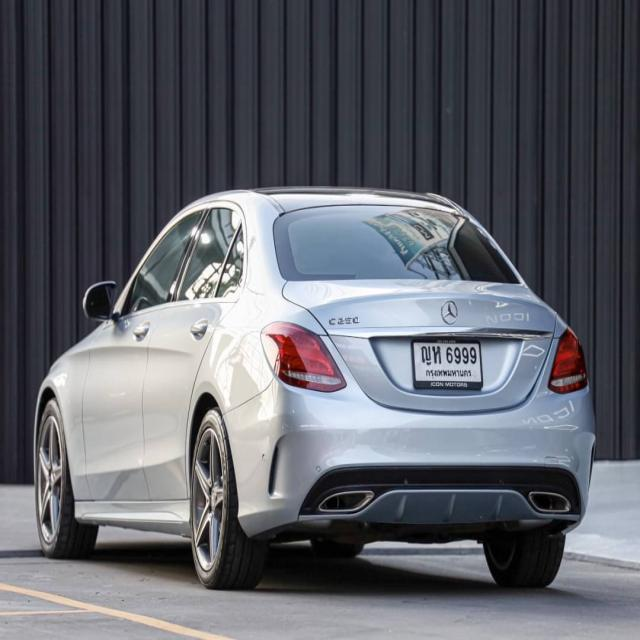license_plate: (410, 335, 484, 391)
